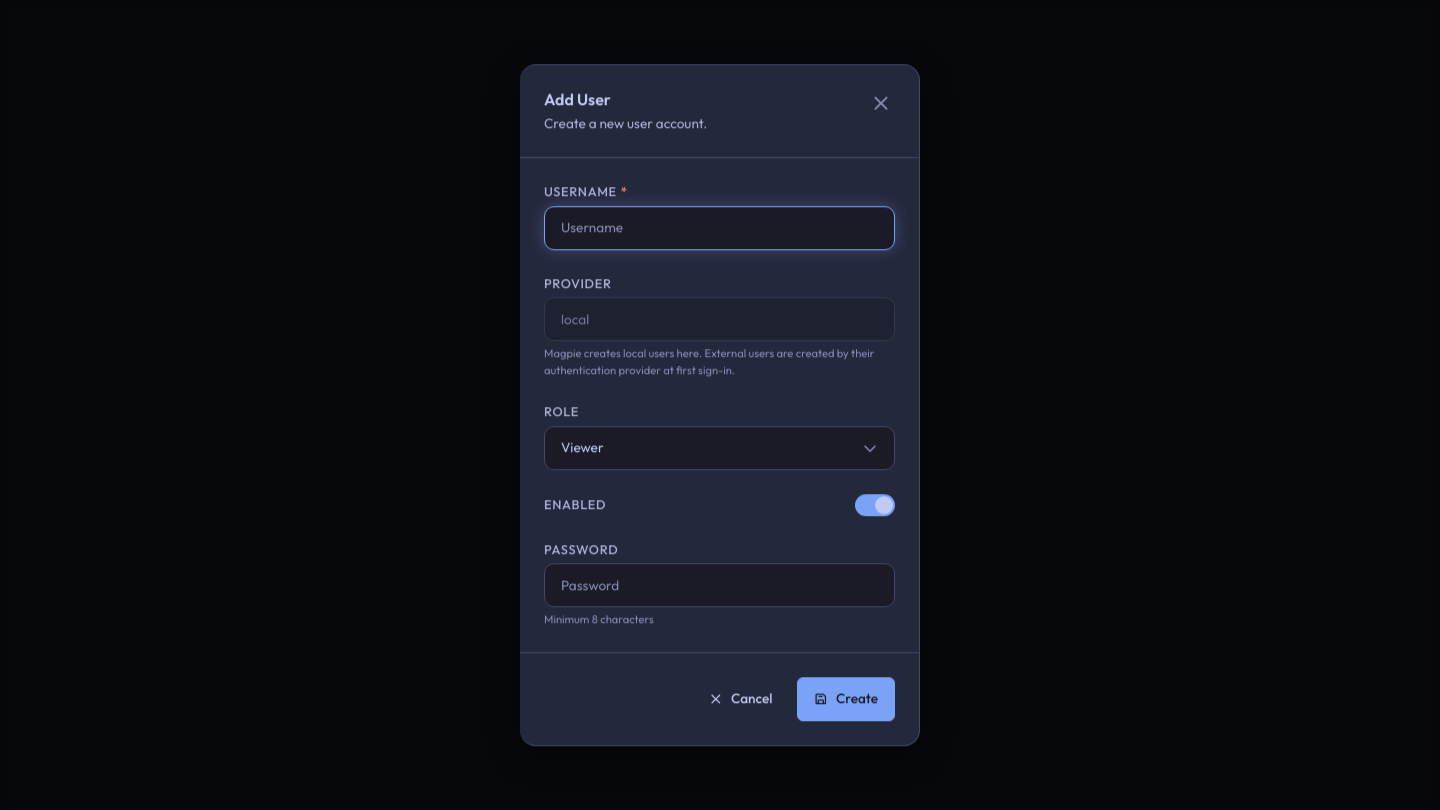
it: UserForm role selector › shows all role options when clicked
Click the dropdown labelled "Viewer": (582, 448) [544,426,895,470]
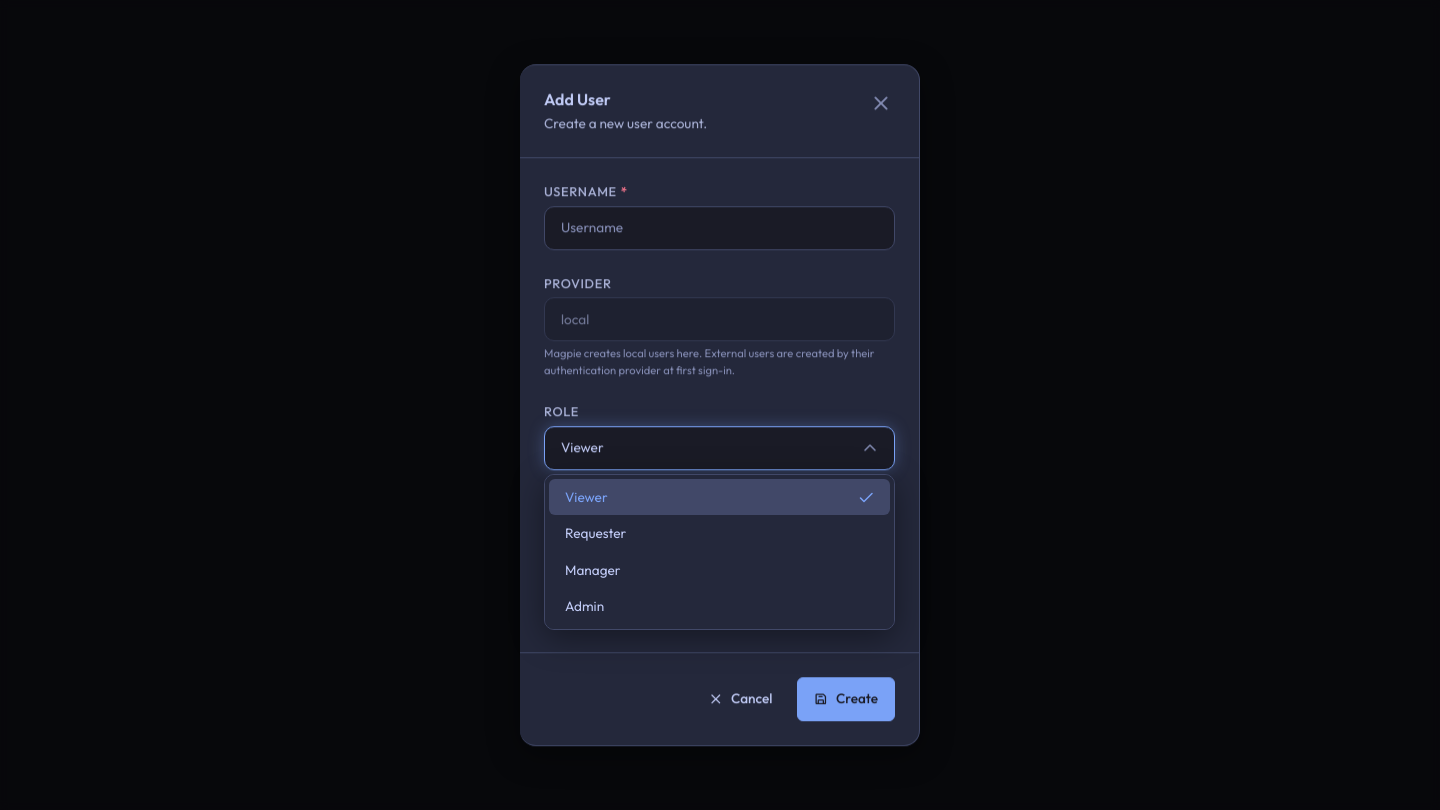
expect the option "Viewer" is shown: met, box [549,479,890,515]
expect the option "Requester" is shown: met, box [565,524,626,542]
expect the option "Manager" is shown: met, box [565,561,620,579]
